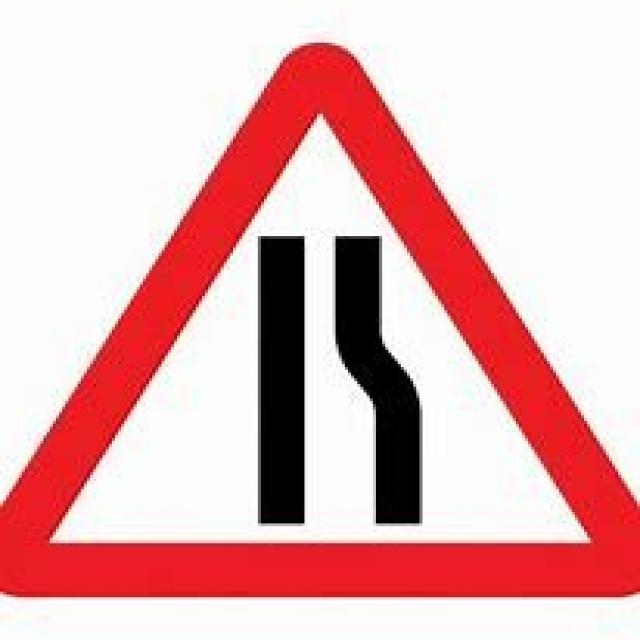NARROW_ROAD_AHEAD: (0, 40, 637, 594)
